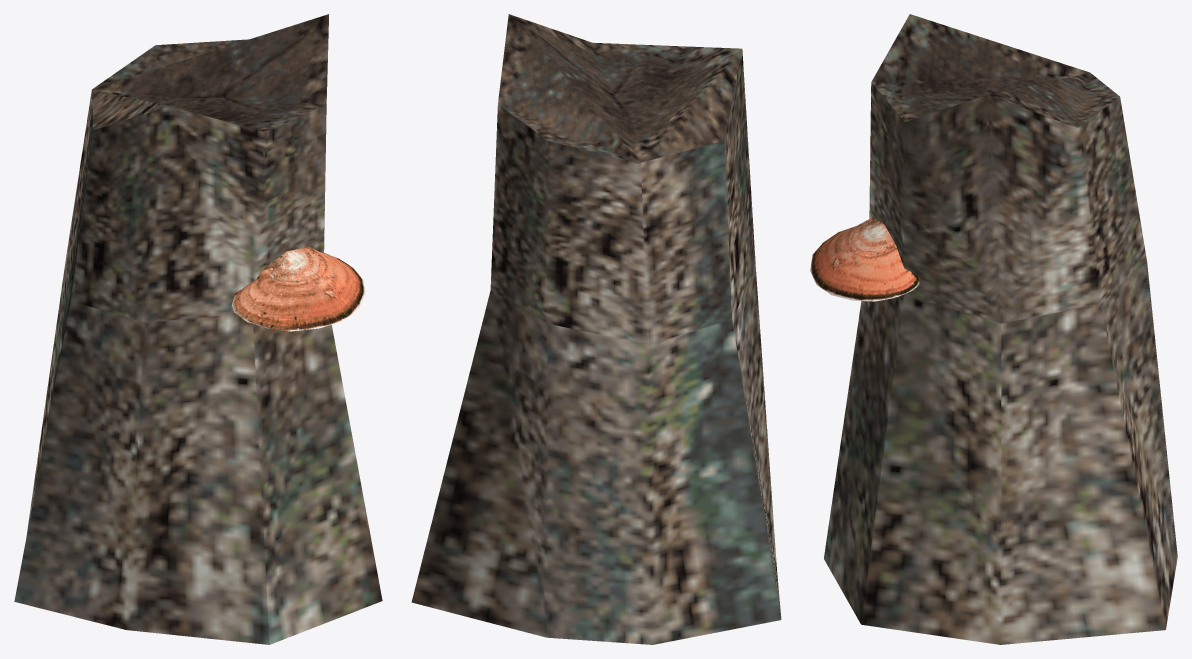
File: fp_stumpwithmushroom.glb
3 views of the same model, side by side, from view 1: azimuth 30°, elevation 25°; view 2: azimuth 150°, elevation 25°; view 3: azimuth 270°, elevation 25° (orthographic).
Visible parts, largest first — view 1: _MeshInstance3D_44, _MeshInstance3D_45; view 2: _MeshInstance3D_44; view 3: _MeshInstance3D_44, _MeshInstance3D_45.
Boxes of the visible parts, x1,y1,x2,y2 form: _MeshInstance3D_44: [14, 14, 382, 644]; _MeshInstance3D_45: [232, 247, 365, 331]; _MeshInstance3D_44: [411, 14, 781, 644]; _MeshInstance3D_44: [824, 14, 1177, 644]; _MeshInstance3D_45: [810, 217, 919, 301].
Bounding box in the file's own units: 0.4641 × 0.7245 × 0.4514.
Materials: 2 (2 with a texture image).
